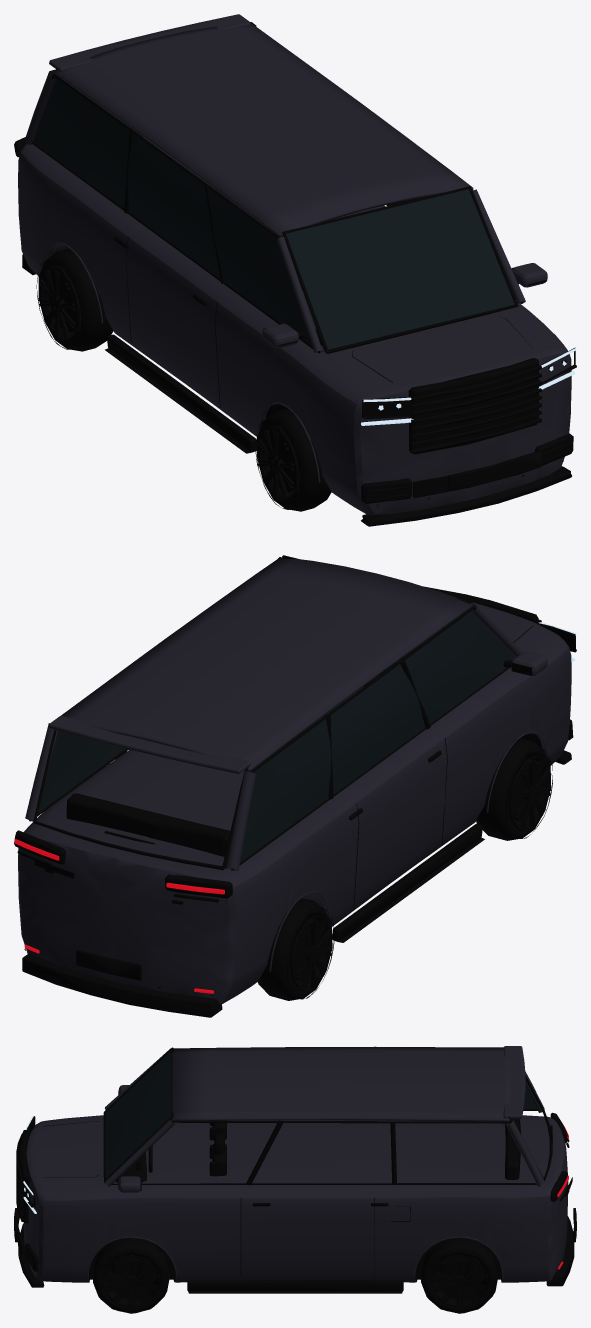
File: vellfire-mid.glb
The picture shows the model from 3 angles, top to bottom: view 1: azimuth 30°, elevation 25°; view 2: azimuth 150°, elevation 25°; view 3: azimuth 270°, elevation 25°; orthographic projection. The views are drawn at different scales.
Visible parts, largest first — view 1: chassis.001__Automotive clearcoat, chassis.001__Solar glass, chassis.001__Vehicle detail atlas, wheel_RL.001__Vehicle detail atlas, wheel_FL.001__Vehicle detail atlas, chassis.001__White LED optics; view 2: chassis.001__Automotive clearcoat, chassis.001__Solar glass, chassis.001__Vehicle detail atlas, wheel_FL.001__Vehicle detail atlas, wheel_RL.001__Vehicle detail atlas, chassis.001__Red LED optics; view 3: chassis.001__Automotive clearcoat, chassis.001__Vehicle detail atlas, wheel_RR.001__Vehicle detail atlas, wheel_FR.001__Vehicle detail atlas, chassis.001__Solar glass.
Boxes of the visible parts, x1,y1,x2,y2 form: chassis.001__Automotive clearcoat: (18,14,571,514); chassis.001__Solar glass: (33,77,514,351); chassis.001__Vehicle detail atlas: (14,68,575,526); wheel_RL.001__Vehicle detail atlas: (36,248,113,351); wheel_FL.001__Vehicle detail atlas: (255,408,331,511); chassis.001__White LED optics: (361,348,576,425); chassis.001__Automotive clearcoat: (18,557,571,1004); chassis.001__Solar glass: (38,610,516,862); chassis.001__Vehicle detail atlas: (14,555,575,1017); wheel_FL.001__Vehicle detail atlas: (476,738,552,840); wheel_RL.001__Vehicle detail atlas: (258,898,334,1000); chassis.001__Red LED optics: (14,839,224,993); chassis.001__Automotive clearcoat: (23,1046,568,1282); chassis.001__Vehicle detail atlas: (14,1047,576,1293); wheel_RR.001__Vehicle detail atlas: (420,1238,498,1313); wheel_FR.001__Vehicle detail atlas: (92,1238,169,1313); chassis.001__Solar glass: (105,1050,536,1178).
Bounding box in the file's own units: 2.17 × 1.95 × 5.15.
Materials: 8 (6 with a texture image).
